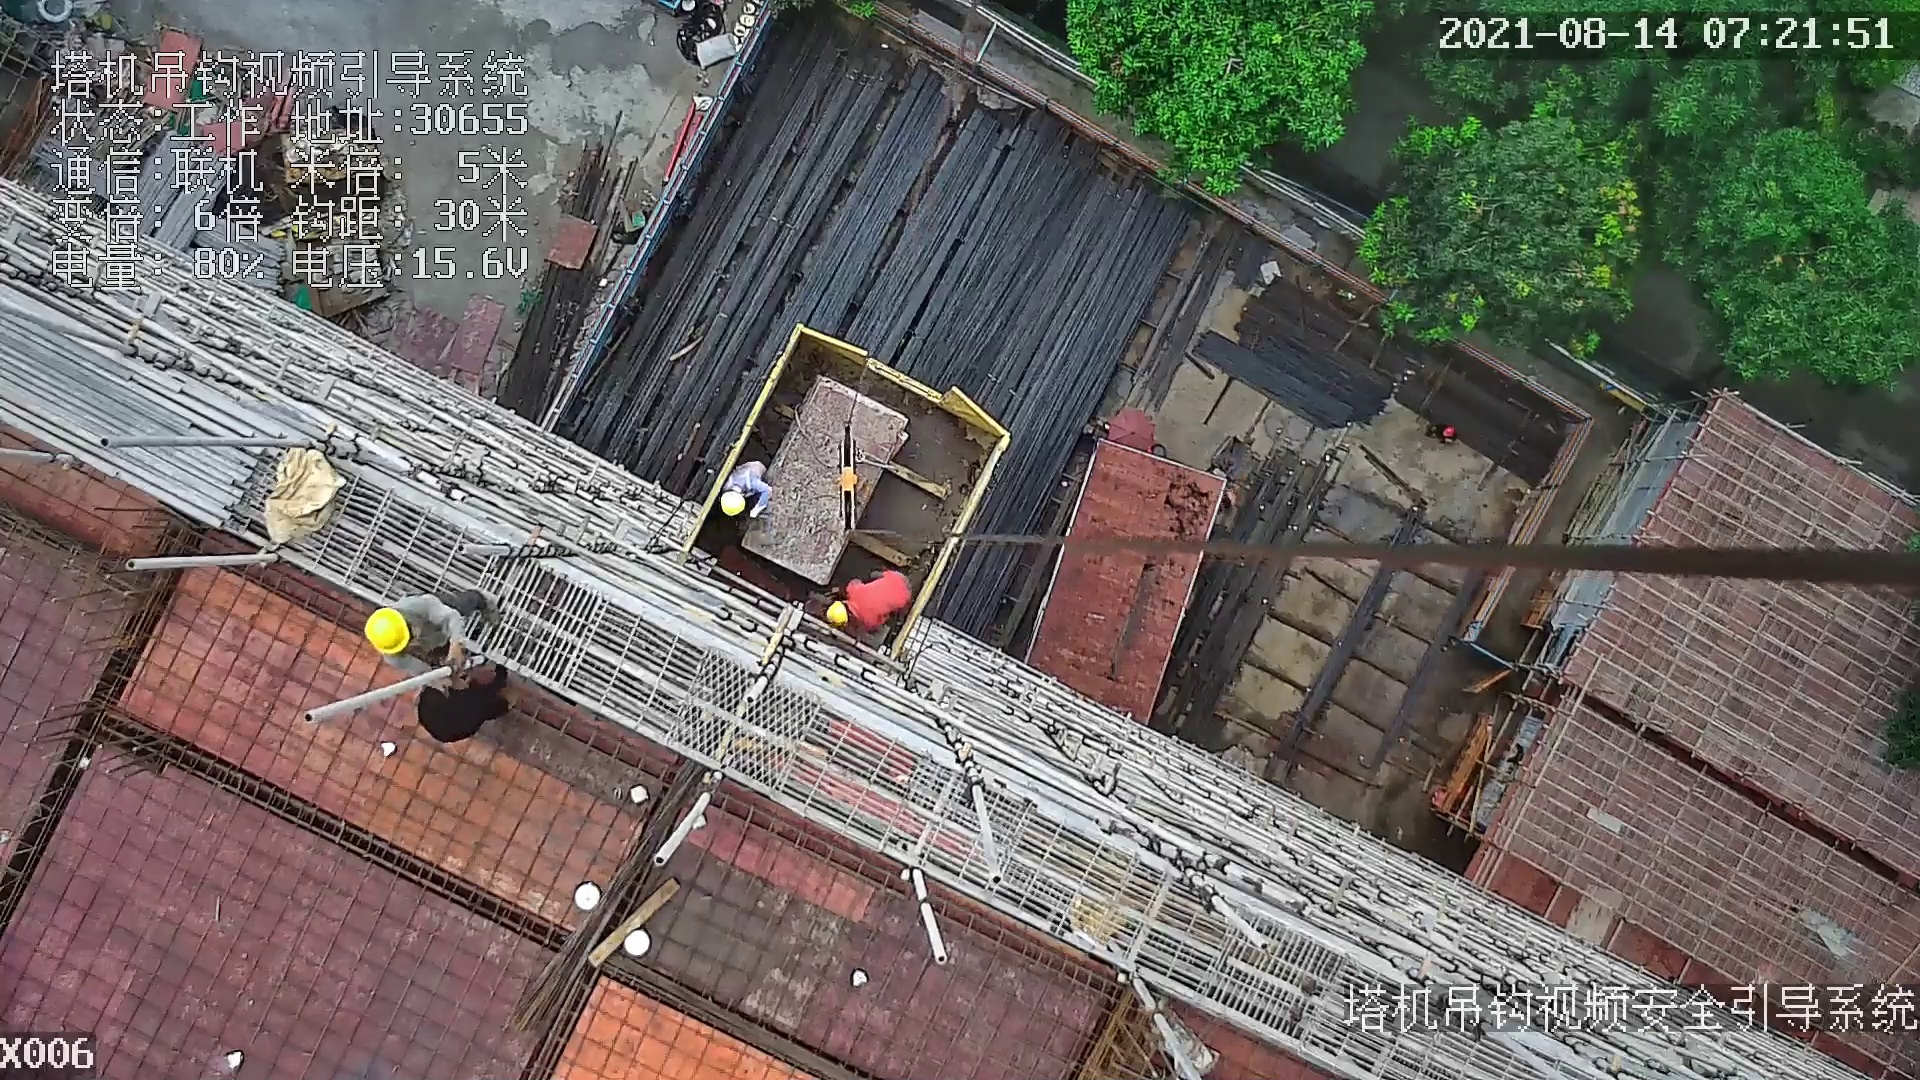helmet: (363, 600, 412, 654), (826, 594, 851, 632), (719, 485, 746, 516)
person: (364, 587, 490, 680), (822, 572, 908, 644), (419, 677, 506, 739), (718, 450, 773, 522)
